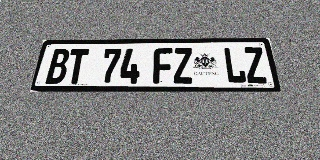4: (119, 48, 141, 84)
7: (99, 49, 122, 84)
B: (45, 49, 71, 84)
F: (153, 48, 173, 84)
L: (223, 47, 247, 83)
T: (65, 49, 89, 84)
Z: (242, 47, 268, 83), (173, 48, 193, 83)
